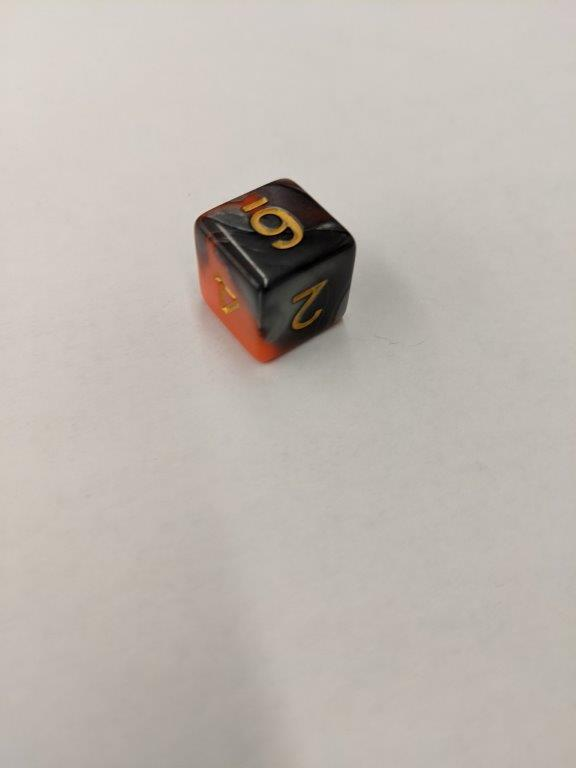d6-6: (195, 176, 356, 367)
